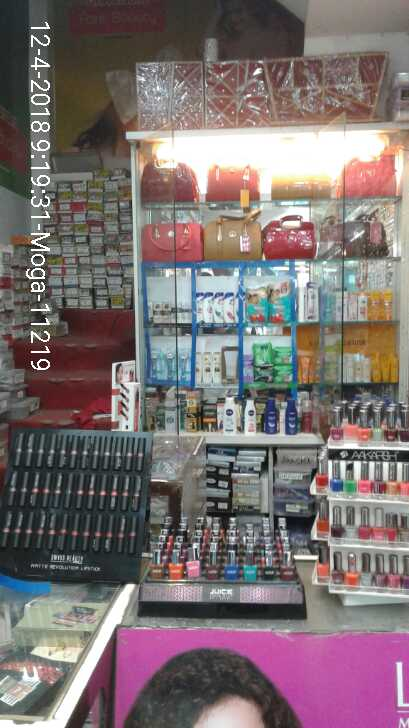venus: (176, 348, 192, 379), (151, 349, 164, 377), (164, 349, 176, 379)
